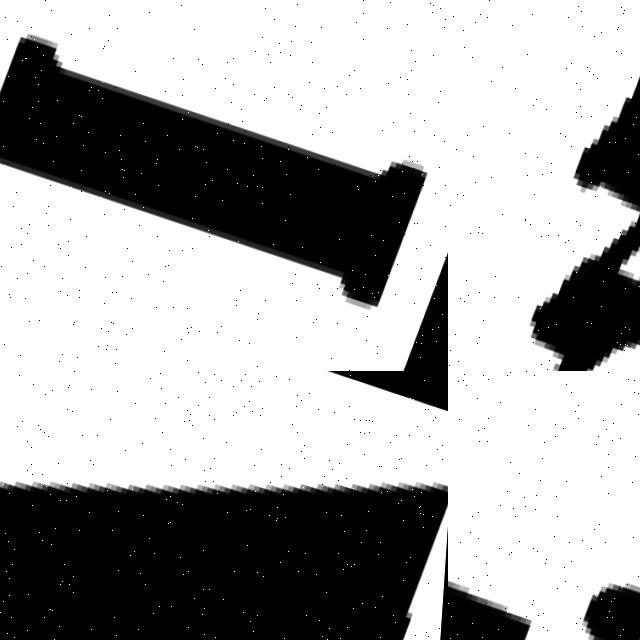I: (0, 0, 426, 307)
K: (0, 371, 448, 640)
M: (448, 15, 640, 371)
Y: (448, 413, 640, 640)
